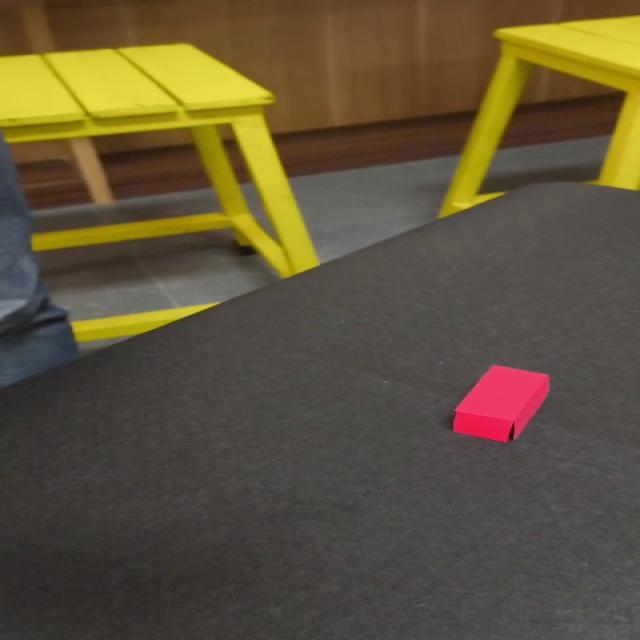red block: (450, 364, 550, 443)
